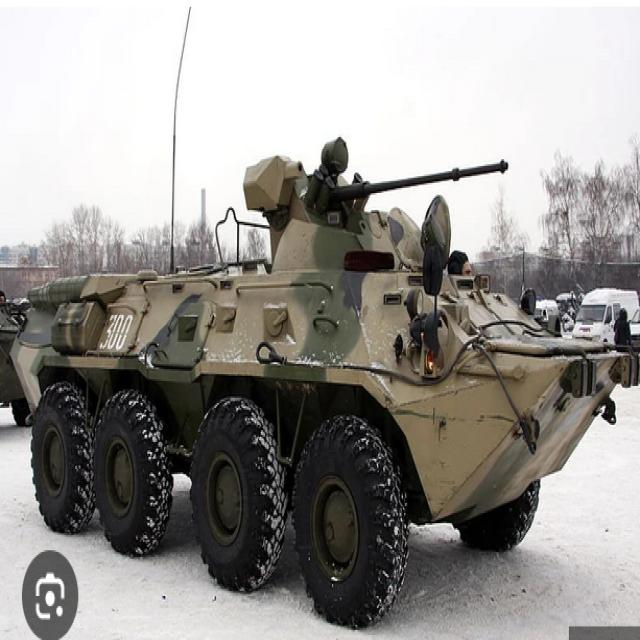MIL_APC: (23, 202, 640, 614)
